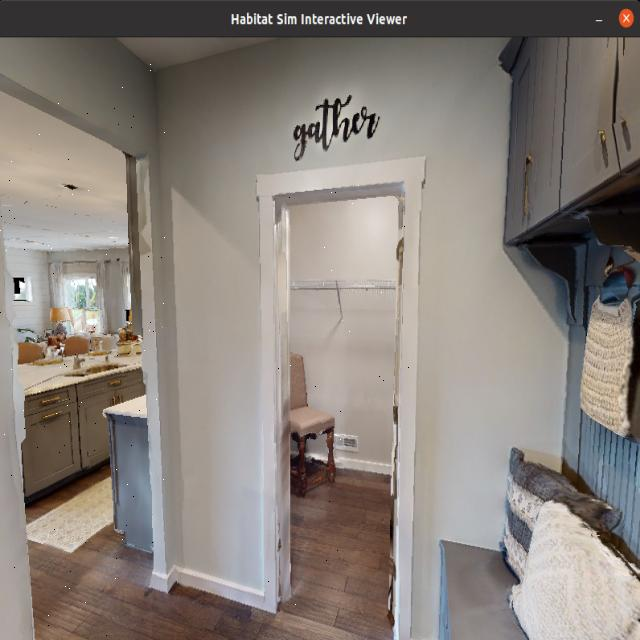chair: (276, 311, 343, 504)
door-frame: (0, 57, 166, 639), (259, 170, 414, 640)
